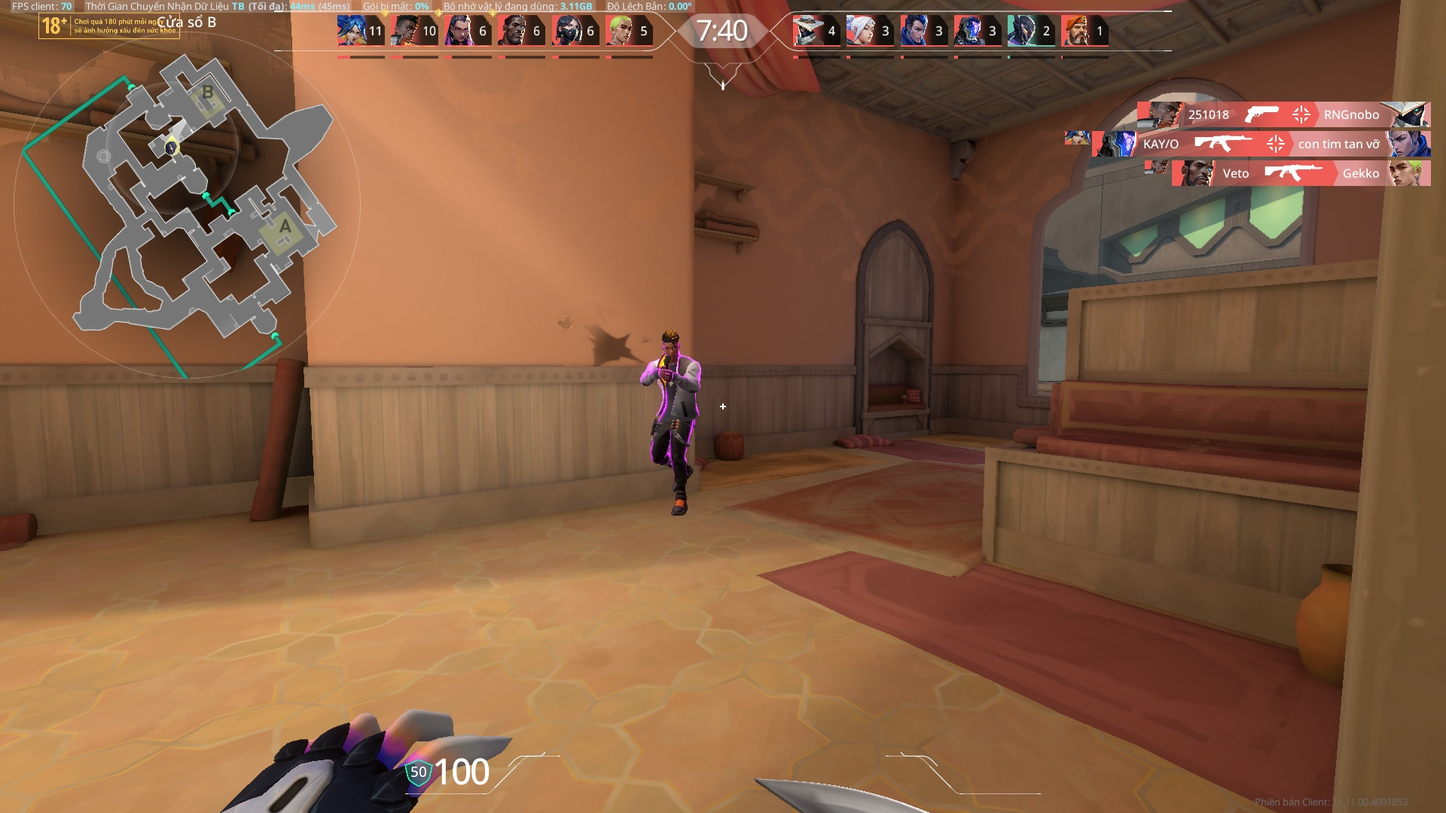body: (651, 353, 705, 415)
head: (660, 333, 680, 356)
